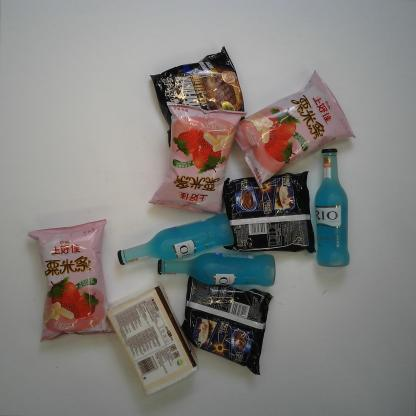Alcohol: (117, 212, 235, 267), (156, 250, 277, 288), (314, 148, 351, 268)
Instant Noodles: (149, 44, 245, 150), (181, 275, 275, 377), (222, 169, 317, 254)
Puffed Food: (238, 69, 356, 189), (147, 101, 248, 215), (26, 218, 118, 343)
Tissue: (106, 279, 200, 399)
